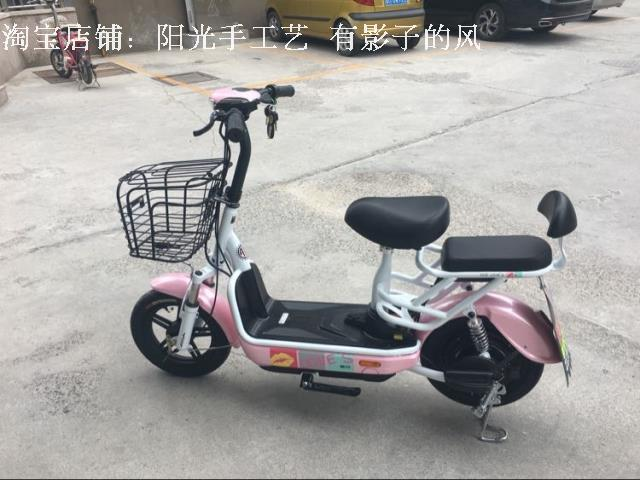电动车: (105, 75, 584, 448)
